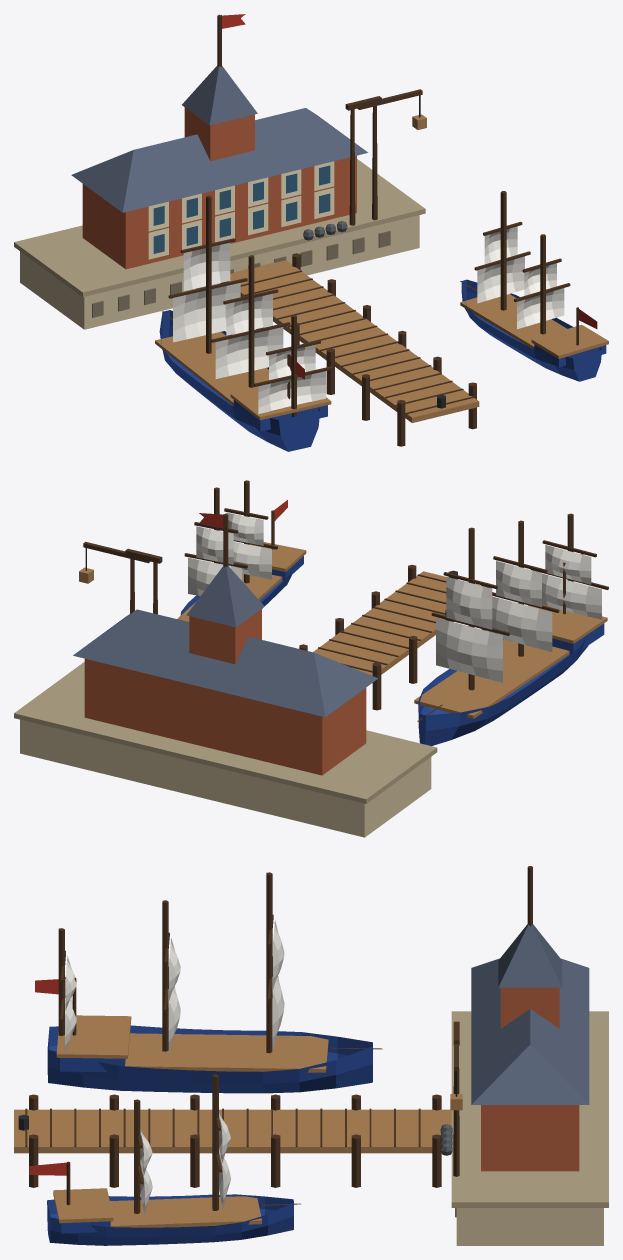
File: district_royal_navy_dockyard_1.fbx
3 views of the same model, one above another, from view 1: azimuth 30°, elevation 25°; view 2: azimuth 150°, elevation 25°; view 3: azimuth 270°, elevation 25° (orthographic). The views are drawn at different scales.
Visible parts, largest first — view 1: district_royal_navy_dockyard_1; view 2: district_royal_navy_dockyard_1; view 3: district_royal_navy_dockyard_1.
Part boxes in pixels (x1=…): district_royal_navy_dockyard_1: x1=14, y1=14, x2=608, y2=451; district_royal_navy_dockyard_1: x1=14, y1=480, x2=608, y2=837; district_royal_navy_dockyard_1: x1=14, y1=866, x2=608, y2=1245.
Bounding box in the file's own units: 95.15 × 67 × 121.
